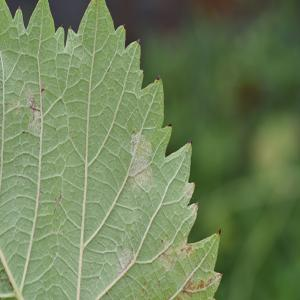Folha: (0, 0, 222, 299)
Fungo: (128, 130, 153, 185), (181, 272, 225, 297), (160, 240, 196, 269), (23, 86, 42, 136), (116, 244, 134, 276), (23, 87, 36, 108), (28, 98, 40, 120), (52, 189, 62, 215), (216, 228, 221, 236), (40, 86, 44, 94)
